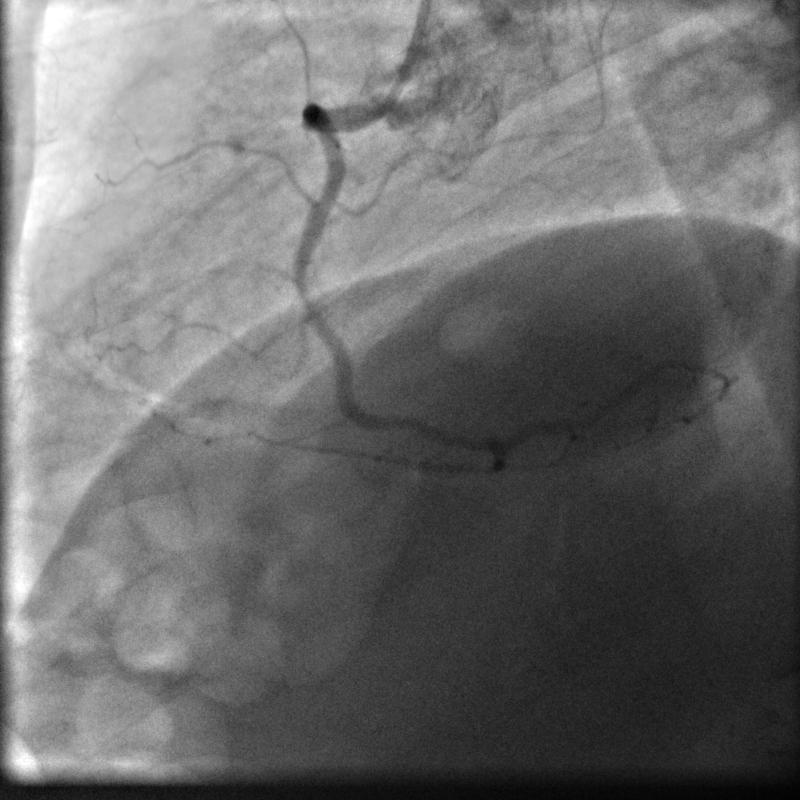Stenosis: (292, 271, 315, 309)
